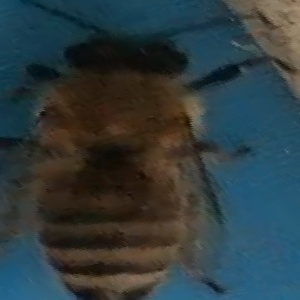bee: (7, 19, 248, 300)
